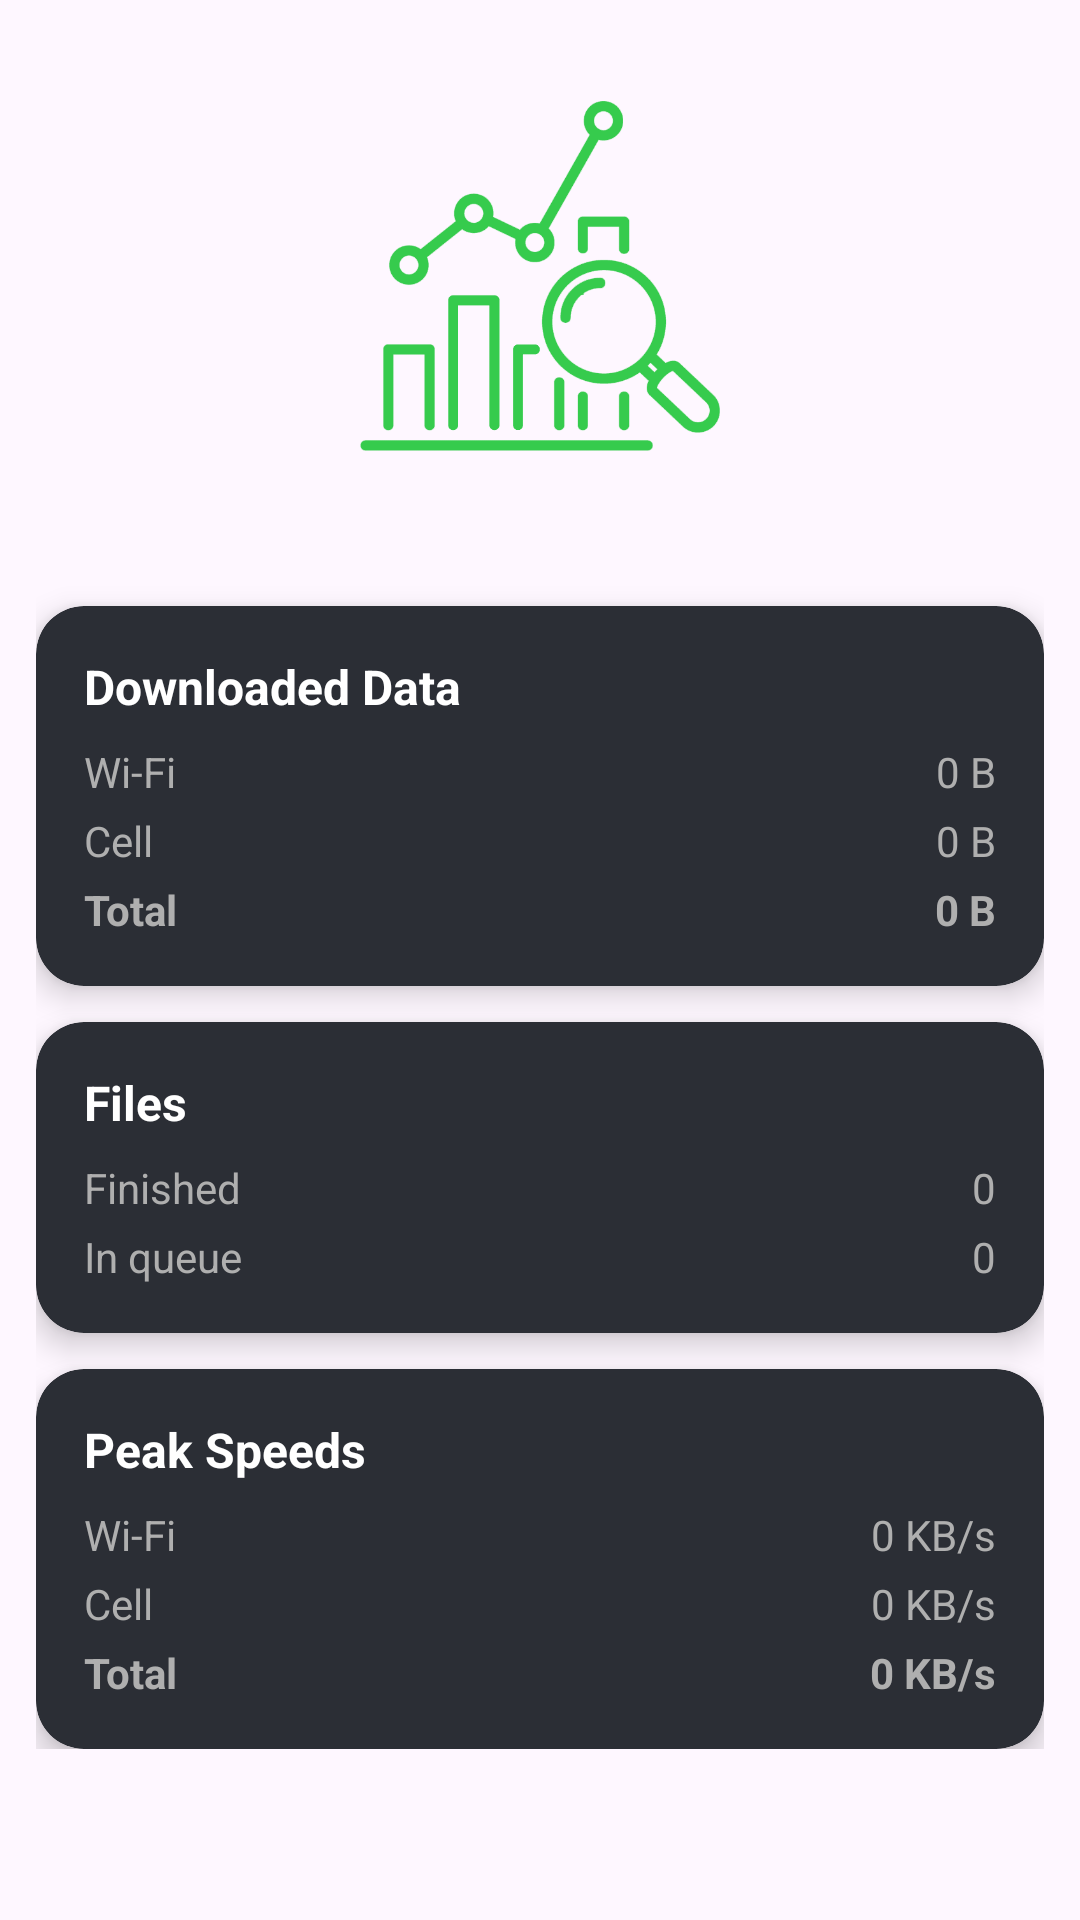

Named icons in this screenshot (1080 × 1920) and their bounding boxes, (x1, y1, x2, y2):
stats: (360, 101, 720, 451)
